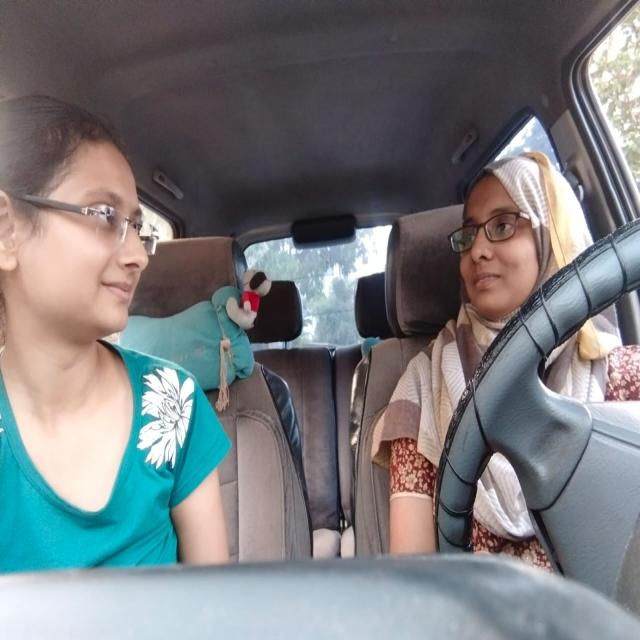LeftRight: (446, 160, 567, 338)
person: (0, 99, 168, 371)
